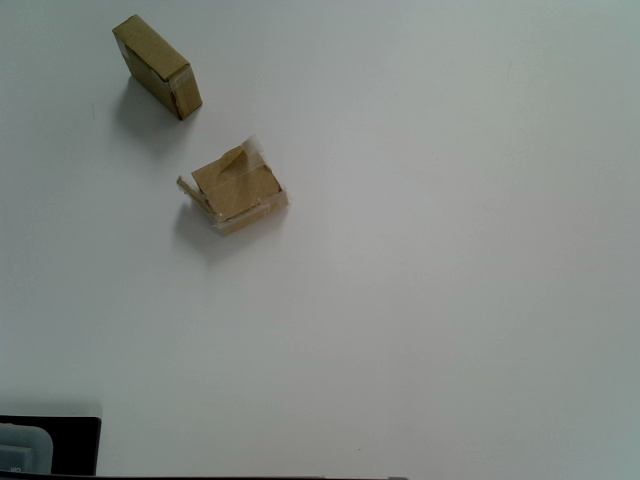defect: (177, 136, 290, 237)
normal: (113, 13, 202, 122)
